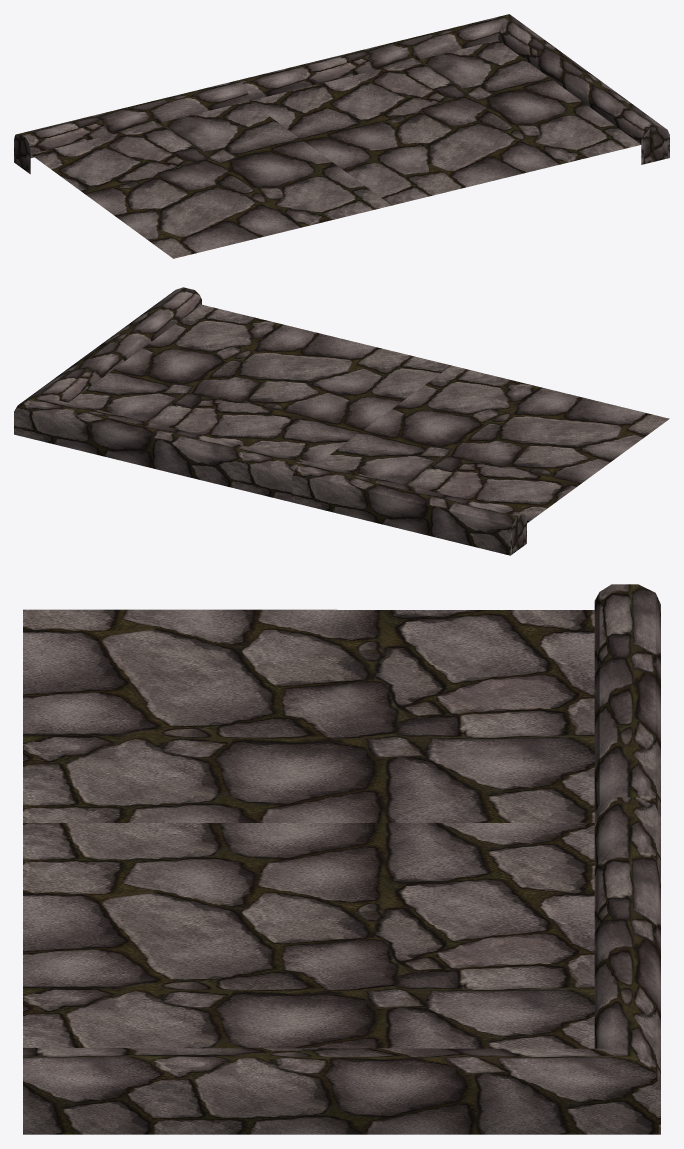
Rendered from dorozki.fbx.
3 renders of one model, top to bottom at view 1: azimuth 30°, elevation 25°; view 2: azimuth 150°, elevation 25°; view 3: azimuth 270°, elevation 25°, orthographic. The views are drawn at different scales.
Visible parts, largest first — view 1: Plane.009, Plane.006; view 2: Plane.009, Plane.006; view 3: Plane.009, Plane.006.
Part boxes in pixels (bbox=[...]): Plane.009: bbox=[238, 14, 669, 205]; Plane.006: bbox=[14, 80, 391, 258]; Plane.009: bbox=[14, 287, 451, 502]; Plane.006: bbox=[292, 365, 669, 555]; Plane.009: bbox=[23, 797, 660, 1134]; Plane.006: bbox=[23, 584, 660, 822].
Size of the model in its own units: 455 by 253 by 28.89.
1 material, 1 textured.
